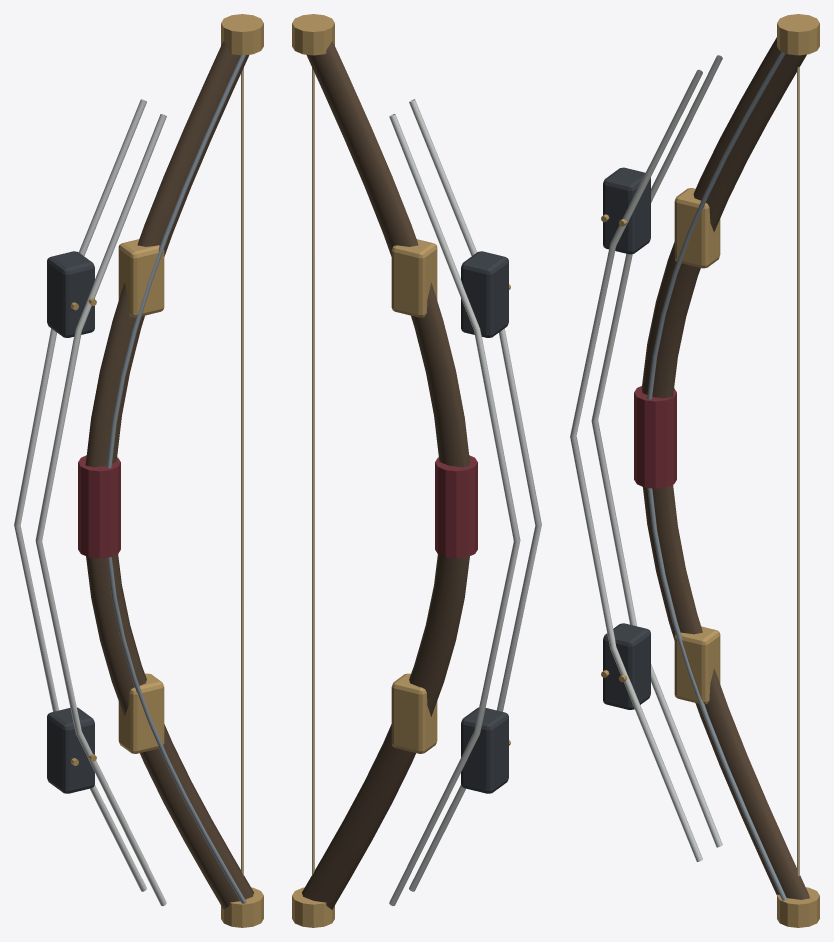
3 views of the same model, side by side, from view 1: azimuth 30°, elevation 25°; view 2: azimuth 150°, elevation 25°; view 3: azimuth 330°, elevation 25° (orthographic).
Parts seen in each view (by area): view 1: TV-058 Orra Sen — Wayfarer Bow; view 2: TV-058 Orra Sen — Wayfarer Bow; view 3: TV-058 Orra Sen — Wayfarer Bow.
Part boxes in pixels (box(x1,y1,x2,y2)): TV-058 Orra Sen — Wayfarer Bow: box(14, 14, 263, 927); TV-058 Orra Sen — Wayfarer Bow: box(292, 14, 541, 927); TV-058 Orra Sen — Wayfarer Bow: box(570, 14, 819, 927).
Size of the model in its own units: 0.317 by 1.15 by 0.062.
